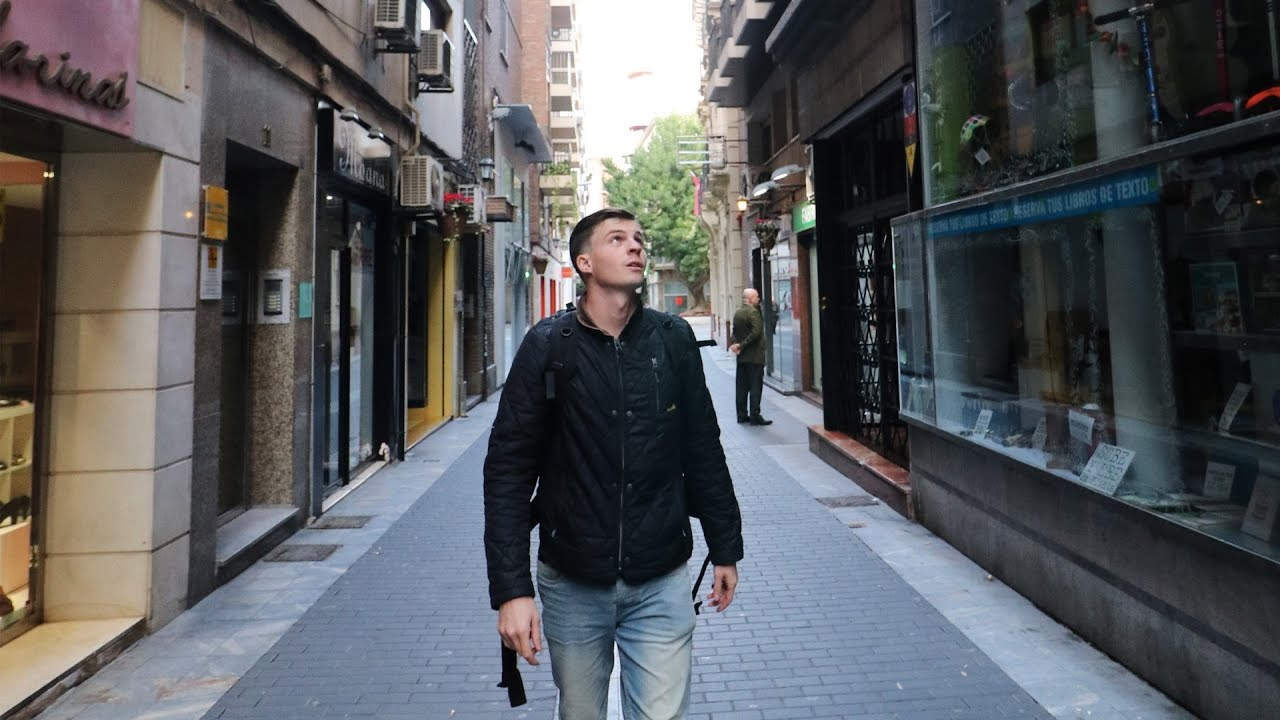person: (438, 187, 791, 720), (710, 276, 799, 436)
